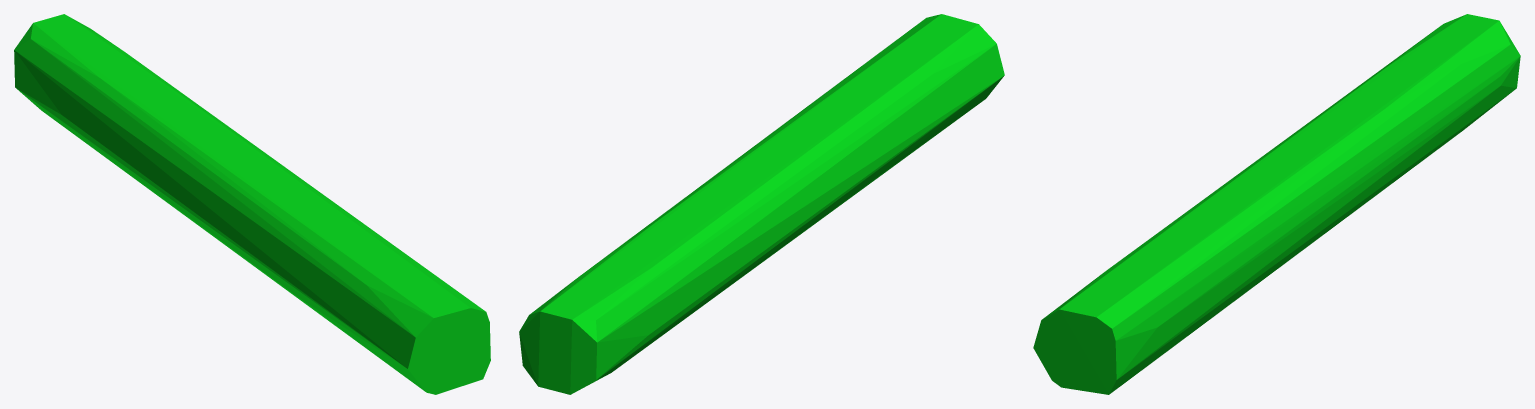
Rendered from model7_convex_piece_001.obj.
3 views of the same model, side by side, from view 1: azimuth 30°, elevation 25°; view 2: azimuth 150°, elevation 25°; view 3: azimuth 330°, elevation 25° (orthographic).
Bounding box in the file's own units: 0.0161 × 0.0142 × 0.1325.
